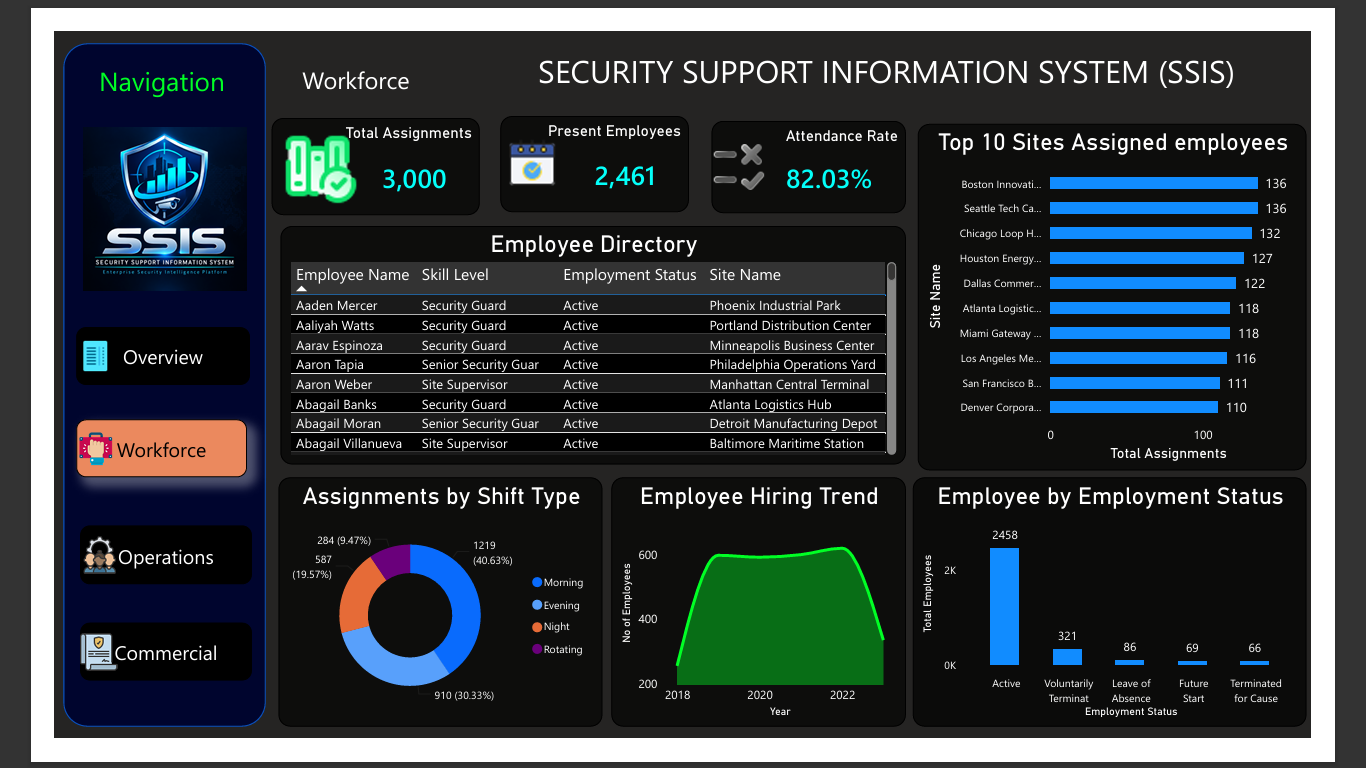

Layout of this report page (visuals, bound fields, positions):
{"tool":"powerbi","page":{"name":"Workforce","canvas":[1280,720],"ordinal":1},"visuals":[{"type":"textbox","box":[420.2,11.8,855.2,64.7],"z":0},{"type":"actionButton","box":[26.4,602.4,175.4,58.9],"z":0,"group":"g4"},{"type":"shape","box":[9.2,11.8,205.5,696.4],"z":1000},{"type":"image","box":[26.4,602.4,38,58.9],"z":1000,"group":"g4"},{"type":"textbox","box":[30.1,27.5,166.3,61.5],"z":2000},{"type":"actionButton","box":[22,395.3,174.1,58.9],"z":2000,"group":"g2"},{"type":"group","id":"g1","title":"Group 1","box":[22,301.2,176.3,58.8],"z":3000},{"type":"actionButton","box":[22,301.2,176.7,58.9],"z":3000,"group":"g1"},{"type":"group","id":"g2","title":"Group 2","box":[22,395.3,173.4,58.8],"z":4000},{"type":"group","id":"g3","title":"Group 3","box":[26.4,502.5,174.9,60.2],"z":5000},{"type":"actionButton","box":[26.4,502.7,175.4,60.2],"z":5000,"group":"g3"},{"type":"group","id":"g4","title":"Group 4","box":[26.4,602.4,174.9,58.8],"z":6000},{"type":"image","box":[23.3,395.3,37.4,58.9],"z":6001,"group":"g2"},{"type":"image","box":[27.8,502.5,37.7,58.9],"z":6002,"group":"g3"},{"type":"image","box":[22,301.2,39.3,58.9],"z":6004,"group":"g1"},{"type":"group","id":"g5","title":"Group 5","box":[221.4,86.7,212.3,101],"z":7000},{"type":"cardVisual","title":"Present Employees","fields":{"Data":["ssis attendance.Present Employees"]},"box":[454,86.7,191.6,98],"z":7000,"group":"g8"},{"type":"cardVisual","title":"Total Assignments","fields":{"Data":["ssis employee_assignment.Total Assignments"]},"box":[221.4,88.2,212.3,99.5],"z":7000,"group":"g7"},{"type":"cardVisual","title":"Attendance Rate","fields":{"Data":["ssis attendance.Attendance Rate"]},"box":[668.6,91.1,198.4,94],"z":7000,"group":"g9"},{"type":"group","id":"g6","title":"Group 7","box":[454,85.2,186.6,98.4],"z":8000},{"type":"group","id":"g7","title":"Group 2","box":[221.4,88.2,212.3,99.5],"z":8000,"group":"g5"},{"type":"group","id":"g8","title":"Group 2","box":[454,86.7,186.7,97.2],"z":9000,"group":"g6"},{"type":"clusteredColumnChart","title":"Employee by Employment Status","fields":{"Category":["ssis employee.employment_status"],"Y":["CountNonNull(ssis employee.employee_name)"]},"box":[874.5,454.3,400.6,254],"z":9000},{"type":"donutChart","title":"Assignments by Shift Type","fields":{"Category":["ssis employee_assignment.shift_type"],"Y":["CountNonNull(ssis employee_assignment.assignment_id)"]},"box":[227.8,454.3,329.9,254],"z":10000},{"type":"image","box":[668.6,91.1,55.8,94],"z":11000,"group":"g9"},{"type":"clusteredBarChart","title":"Top 10 Sites Assigned employees","fields":{"Category":["ssis site.site_name"],"Y":["CountNonNull(ssis employee_assignment.assignment_id)"]},"box":[878.7,94,396.7,352.7],"z":11000},{"type":"image","box":[227.3,86.7,82.6,98.7],"z":11001,"group":"g5"},{"type":"image","box":[459.6,85.2,53.9,97.2],"z":11002,"group":"g6"},{"type":"tableEx","title":"Employee Directory","fields":{"Values":["ssis employee.employee_name","ssis employee.skill_level","ssis employee.employment_status","ssis site.site_name"]},"box":[230.4,197.7,636.2,243.5],"z":12000},{"type":"lineChart","title":"Employee Hiring Trend","fields":{"Category":["ssis employee.hire_date.Variation.Date Hierarchy.Year","ssis employee.hire_date.Variation.Date Hierarchy.Month"],"Y":["CountNonNull(ssis employee.employee_id)"]},"box":[566.8,454.3,299.8,254],"z":13000},{"type":"textbox","box":[227.8,27.9,158.7,48.5],"z":14000},{"type":"image","box":[29.4,94,166,173.4],"z":15000},{"type":"group","id":"g9","title":"Group 6","box":[668.6,91.1,198.4,94],"z":16000}]}

Visuals, with their boxes in screenshot pixels (x1, y1, x2, y2), scaled from the page's 1280x720 canvas onto the 1366x768 screenshot:
textbox: select_region(448, 13, 1361, 82)
actionButton: select_region(28, 643, 215, 705)
shape: select_region(10, 13, 229, 755)
image: select_region(28, 643, 69, 705)
textbox: select_region(32, 29, 210, 95)
actionButton: select_region(23, 422, 209, 484)
"Group 1" group: select_region(23, 321, 212, 384)
actionButton: select_region(23, 321, 212, 384)
"Group 2" group: select_region(23, 422, 209, 484)
"Group 3" group: select_region(28, 536, 215, 600)
actionButton: select_region(28, 536, 215, 600)
"Group 4" group: select_region(28, 643, 215, 705)
image: select_region(25, 422, 65, 484)
image: select_region(30, 536, 70, 599)
image: select_region(23, 321, 65, 384)
"Group 5" group: select_region(236, 92, 463, 200)
"Present Employees" cardVisual: select_region(485, 92, 689, 197)
"Total Assignments" cardVisual: select_region(236, 94, 463, 200)
"Attendance Rate" cardVisual: select_region(714, 97, 925, 197)
"Group 7" group: select_region(485, 91, 684, 196)
"Group 2" group: select_region(236, 94, 463, 200)
"Group 2" group: select_region(485, 92, 684, 196)
"Employee by Employment Status" clusteredColumnChart: select_region(933, 485, 1361, 756)
"Assignments by Shift Type" donutChart: select_region(243, 485, 595, 756)
image: select_region(714, 97, 773, 197)
"Top 10 Sites Assigned employees" clusteredBarChart: select_region(938, 100, 1361, 476)
image: select_region(243, 92, 331, 198)
image: select_region(490, 91, 548, 195)
"Employee Directory" tableEx: select_region(246, 211, 925, 471)
"Employee Hiring Trend" lineChart: select_region(605, 485, 925, 756)
textbox: select_region(243, 30, 412, 81)
image: select_region(31, 100, 209, 285)
"Group 6" group: select_region(714, 97, 925, 197)
